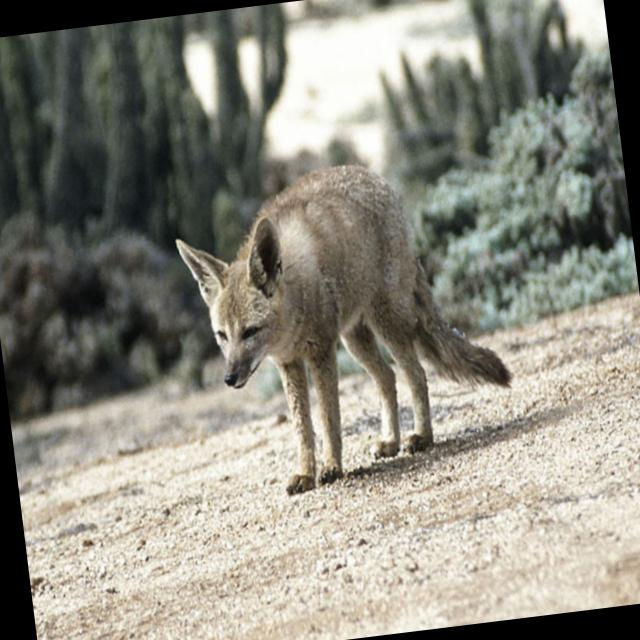fox: (148, 76, 550, 606)
